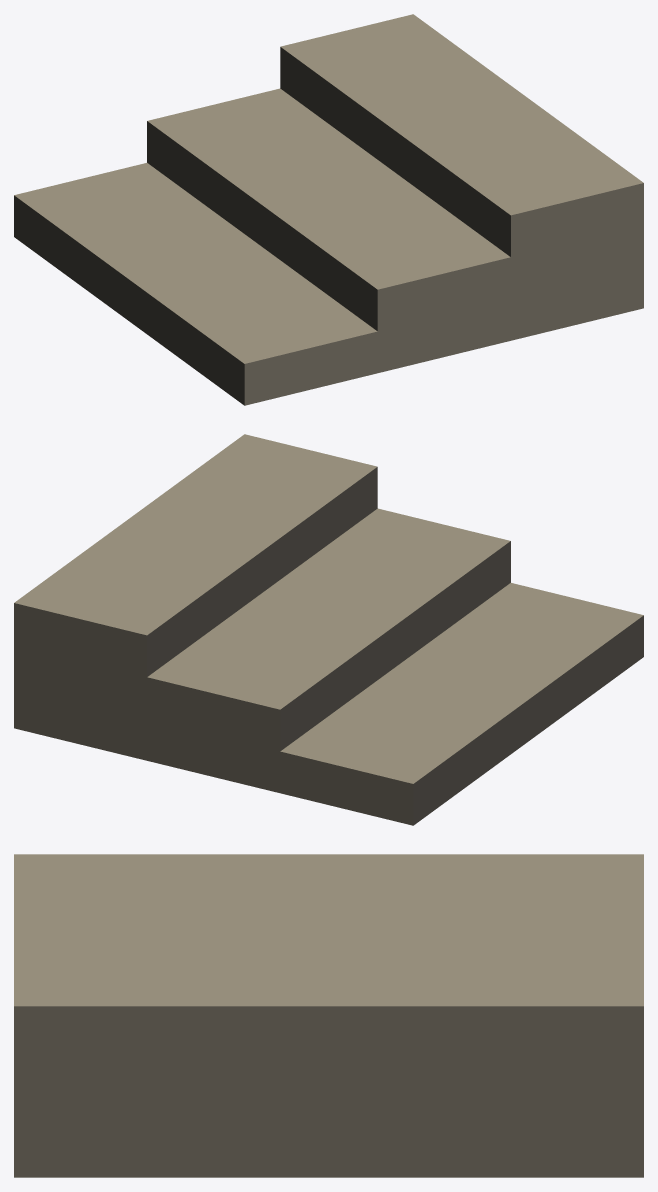
Rendered from TW_STEPS_LOW3_A_LOD0.glb.
3 renders of one model, top to bottom at view 1: azimuth 30°, elevation 25°; view 2: azimuth 150°, elevation 25°; view 3: azimuth 270°, elevation 25°, orthographic. The views are drawn at different scales.
Parts seen in each view (by area): view 1: TW_STEPS_LOW3_A_LOD0; view 2: TW_STEPS_LOW3_A_LOD0; view 3: TW_STEPS_LOW3_A_LOD0.
Boxes of the visible parts, x1,y1,x2,y2 form: TW_STEPS_LOW3_A_LOD0: [14, 14, 643, 405]; TW_STEPS_LOW3_A_LOD0: [14, 434, 643, 825]; TW_STEPS_LOW3_A_LOD0: [14, 854, 643, 1177].
Size of the model in its own units: 1.2 by 0.36 by 1.2.
Materials: 1 (1 with a texture image).
